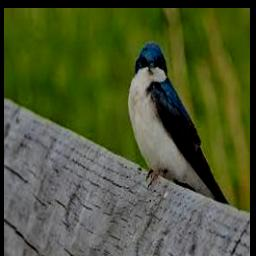Swallow: (128, 42, 229, 205)
